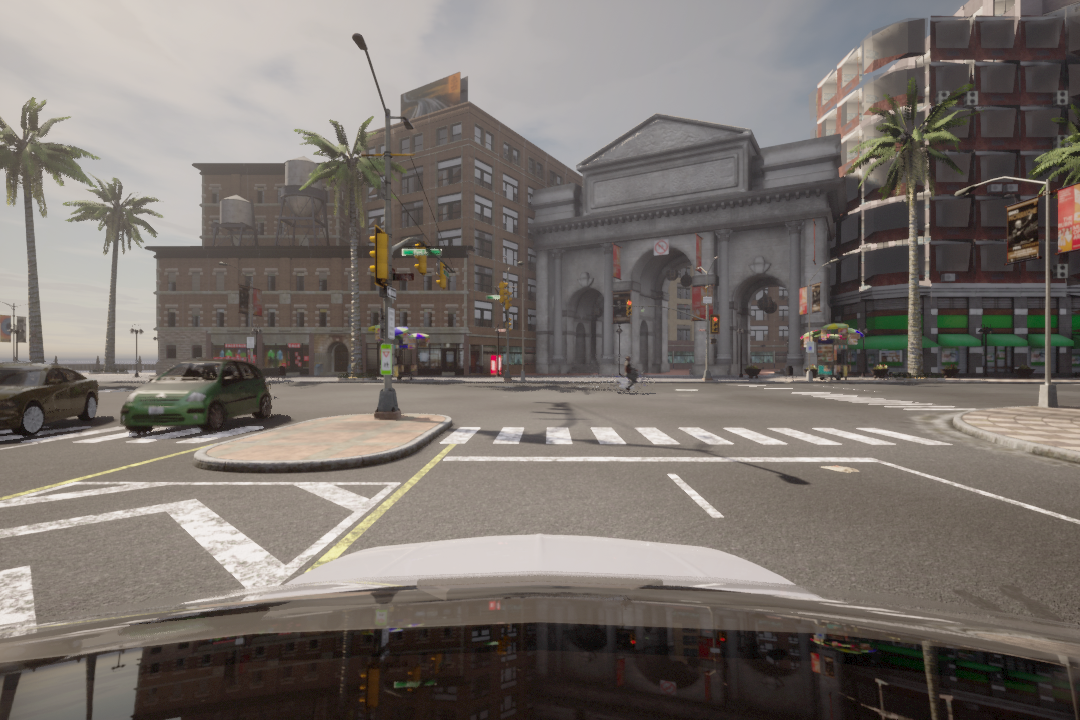TrafficLight: (711, 316, 721, 336), (625, 298, 632, 316)
TrafficSign: (654, 240, 669, 257)
walkside: (439, 422, 957, 451), (1, 418, 267, 447)
